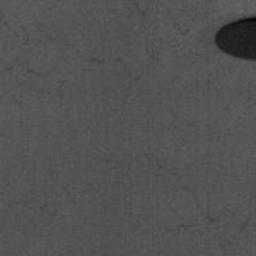Punching: (215, 16, 256, 60)
